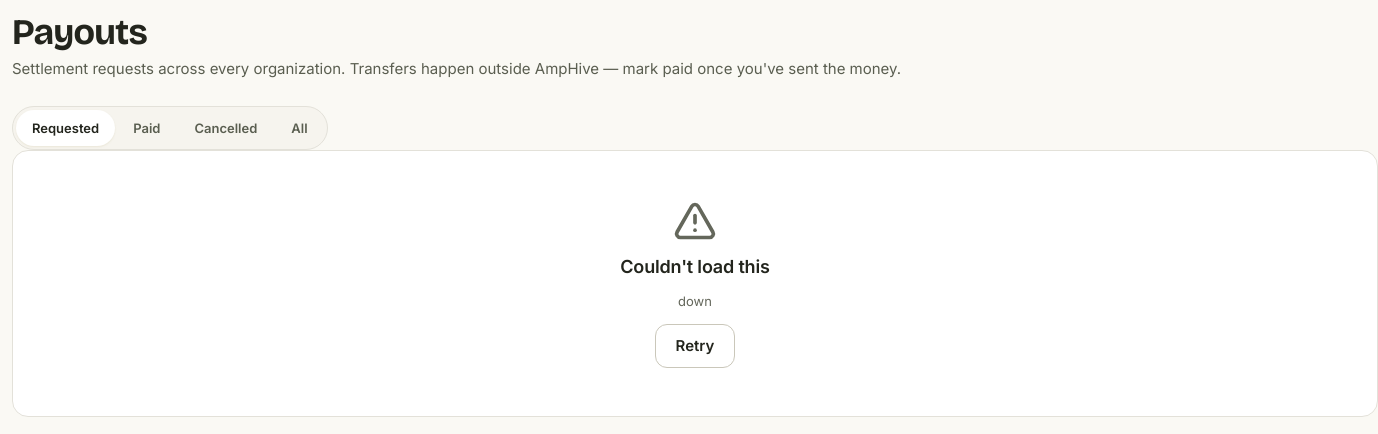
Test case: AdminPayouts list › shows a retryable error instead of an empty state on failure, then recovers
This screenshot has width=1378, height=434.
Expected: the heading "Couldn't load this" is shown, top-left (620, 255), bottom-right (770, 278)
Click the button "Retry": (695, 346) top-left (655, 324), bottom-right (735, 368)
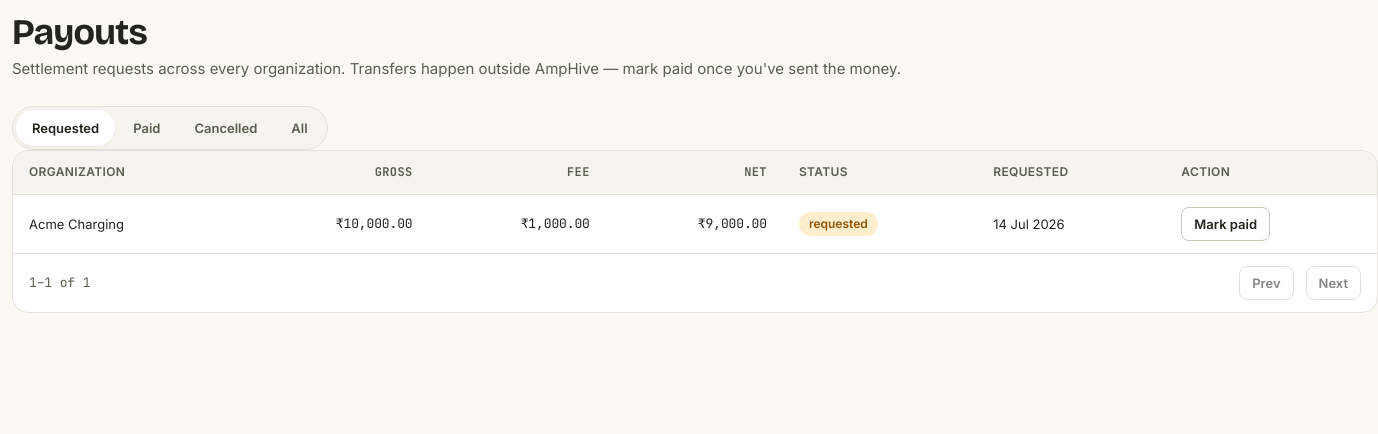
Expected: the text "Acme Charging" is shown, top-left (13, 194), bottom-right (238, 253)
